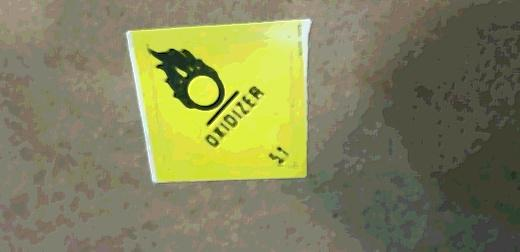oxidizer: (127, 20, 310, 184)
